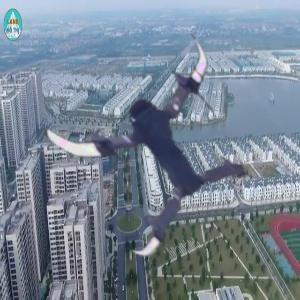drone: (51, 32, 257, 238)
